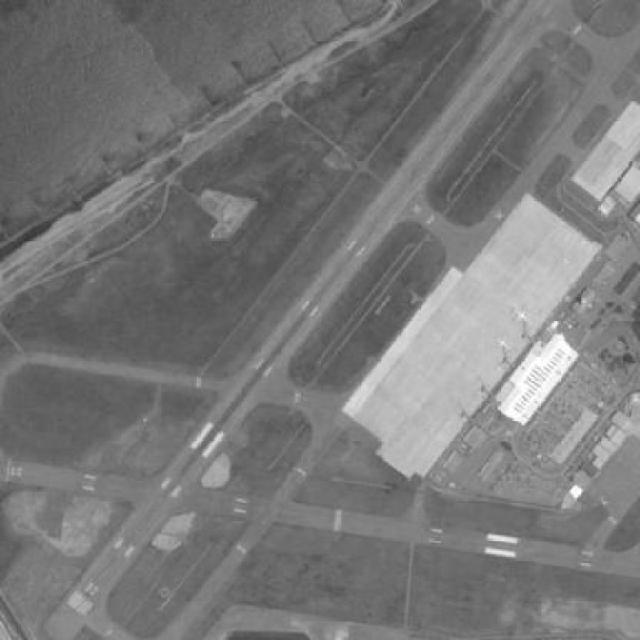airplane: (514, 309, 530, 328), (494, 334, 511, 351)
